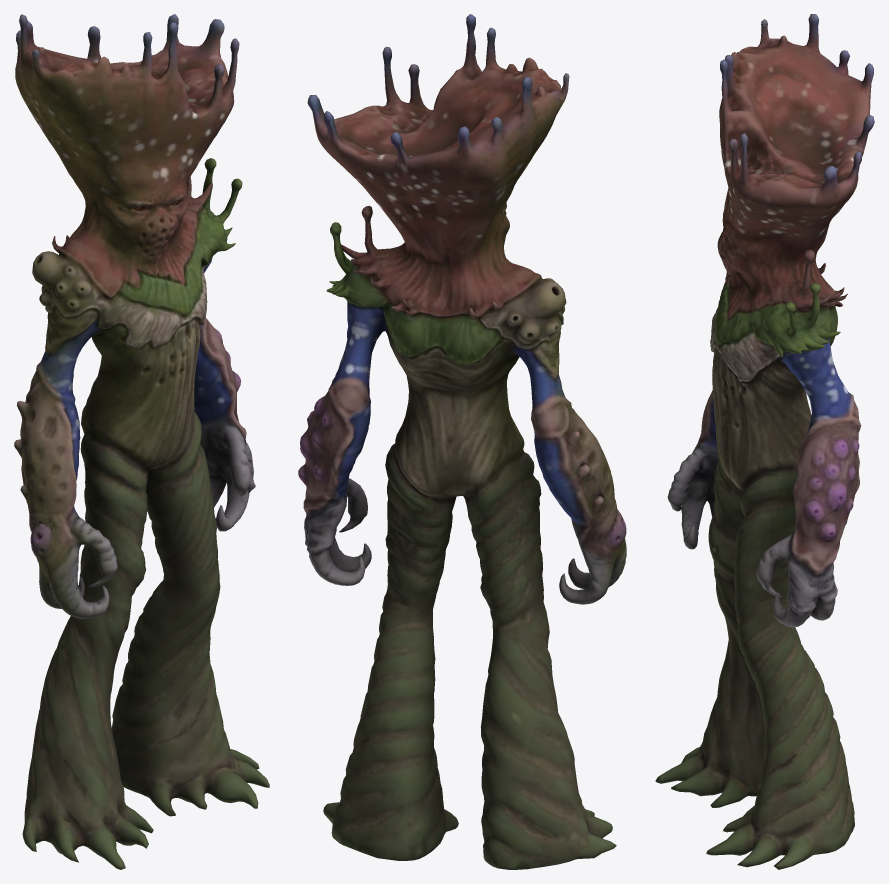
The model's file is MZ4250 - Fungi, Myconid Sovereign.glb.
3 views of the same model, side by side, from view 1: azimuth 30°, elevation 25°; view 2: azimuth 150°, elevation 25°; view 3: azimuth 270°, elevation 25° (orthographic). The views are drawn at different scales.
Visible parts, largest first — view 1: Body.002; view 2: Body.002; view 3: Body.002.
Boxes of the visible parts, x1,y1,x2,y2 form: Body.002: (14,14,269,869); Body.002: (298,14,626,869); Body.002: (655,14,874,869).
Bounding box in the file's own units: 0.6641 × 1.9 × 0.4952.
1 material, 1 textured.
